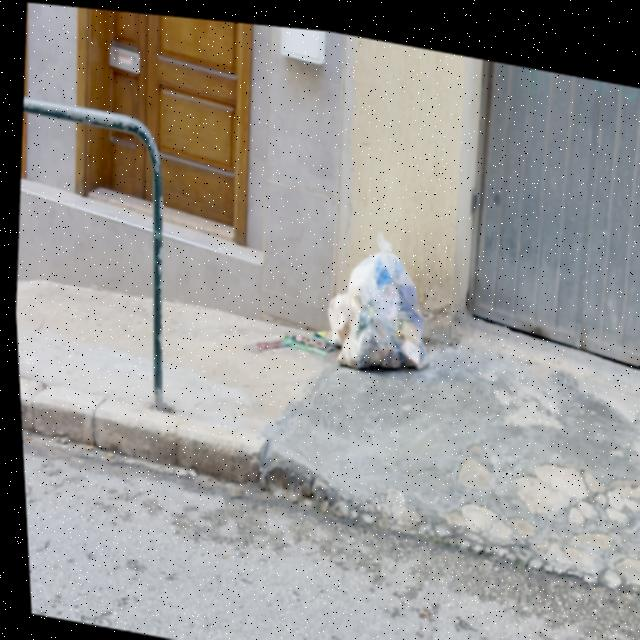Organic Waste -White Bag-: (321, 234, 433, 378)
